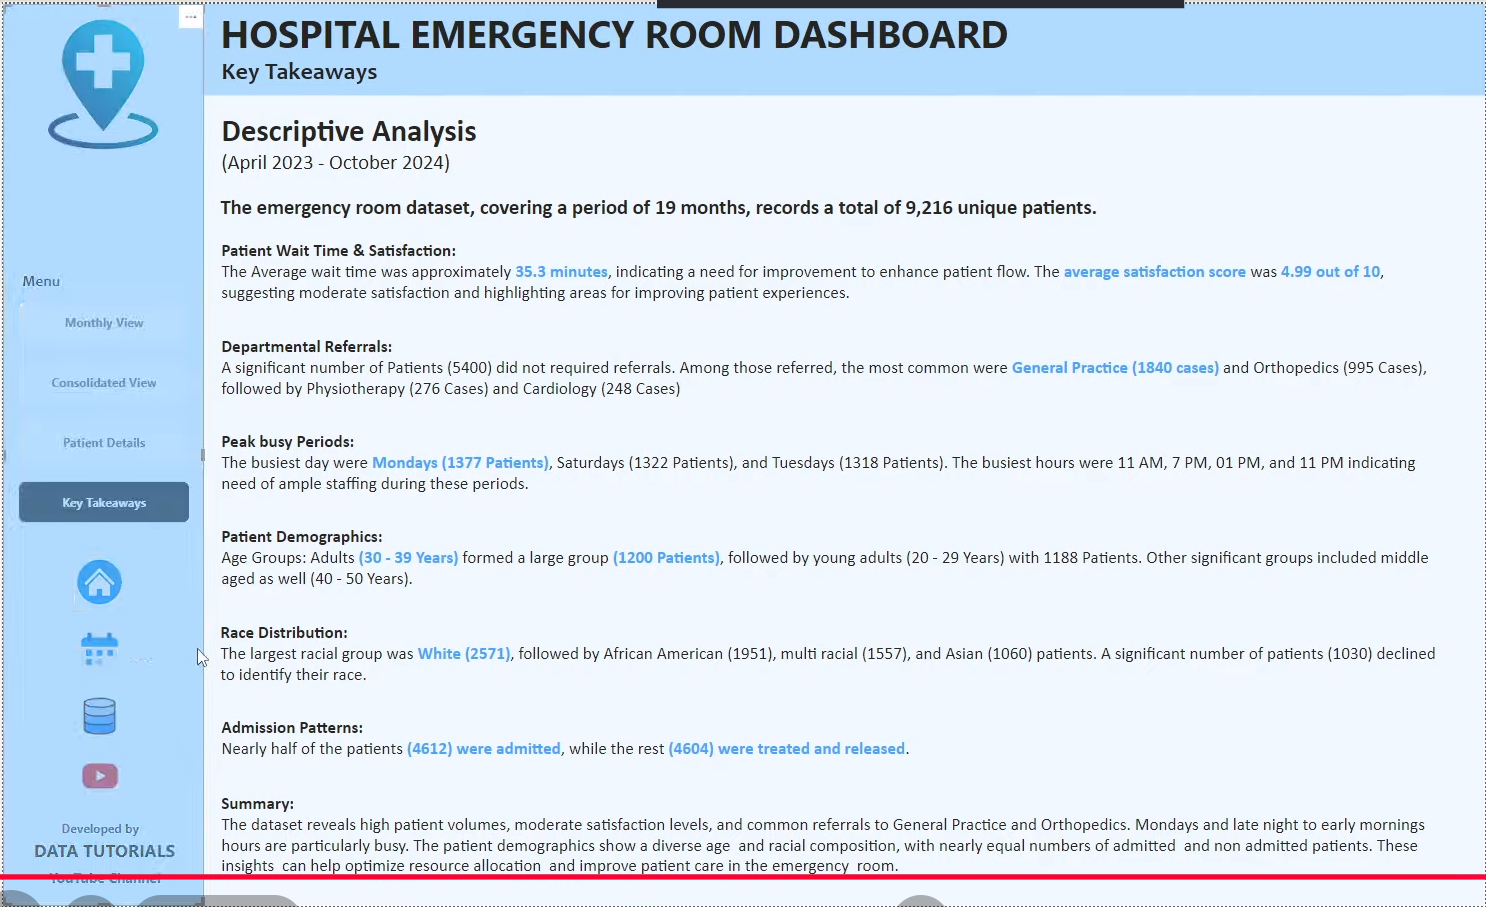

This screenshot's page, from the dashboard's own definition file:
{"tool":"powerbi","page":{"name":"Keys_Takeaway","canvas":[2300,1400],"ordinal":3},"visuals":[{"type":"shape","box":[321.7,0,1979,140.3],"z":0},{"type":"shape","box":[0,0,324.1,1400.5],"z":1000},{"type":"textbox","box":[319.3,0,1262.6,89.5],"z":2000},{"type":"textbox","box":[322.5,70,322.5,70],"z":3000},{"type":"image","box":[10.5,18,300,250],"z":4000},{"type":"pageNavigator","box":[13.3,426.7,310,433.3],"z":5000},{"type":"textbox","box":[324,140,1976,1260],"z":6000}]}

Visuals, with their boxes on the page's 2300x1400 design canvas (x1, y1, x2, y2). These are canvas units, not pixel positions in the 1486x907 screenshot, which may show the page scaled, cropped or inside an application window:
shape: (left=322, top=0, right=2301, bottom=140)
shape: (left=0, top=0, right=324, bottom=1400)
textbox: (left=319, top=0, right=1582, bottom=90)
textbox: (left=322, top=70, right=645, bottom=140)
image: (left=10, top=18, right=310, bottom=268)
pageNavigator: (left=13, top=427, right=323, bottom=860)
textbox: (left=324, top=140, right=2300, bottom=1400)
